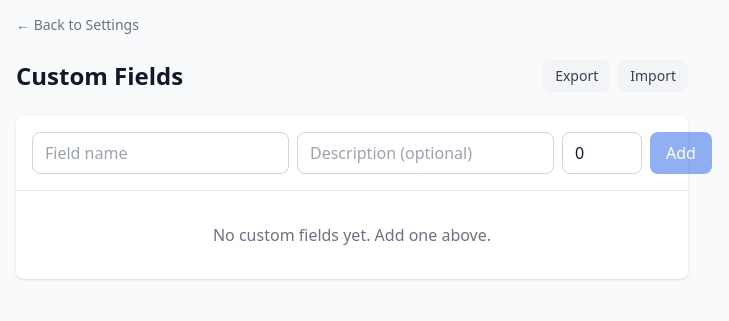
Test: SettingsCustomFields › validates field name format
Expected: the text "No custom fields yet. Add one above." is shown, [213, 224, 491, 246]
Type "Invalid Name" into the field with placeholder "Field name" at (160, 153), box [32, 132, 289, 174]
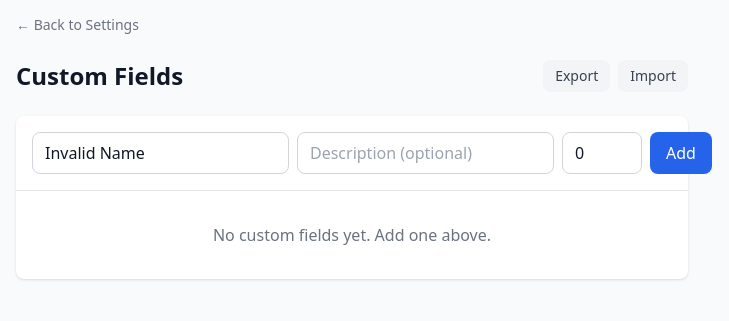
Click the button "Add" at (681, 153), box [650, 132, 712, 174]
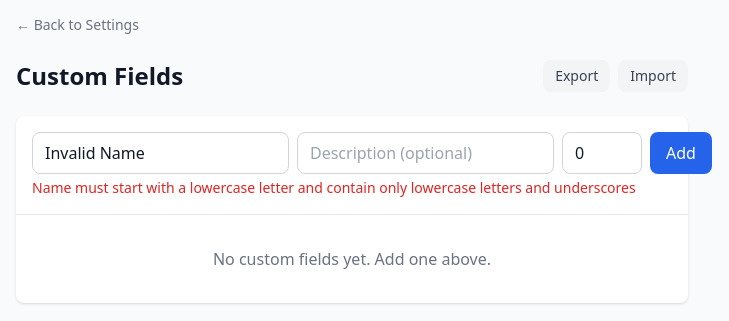
Now the text "must start with a lowercase letter" is shown, box [32, 178, 636, 197]
